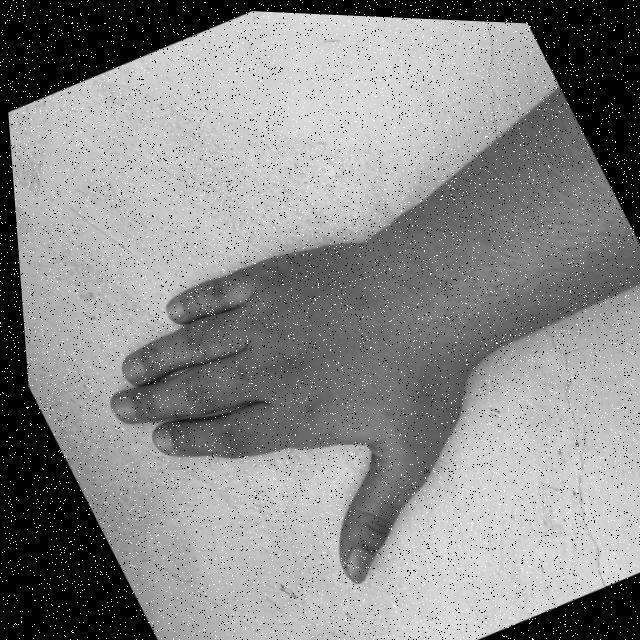no-gloves: (55, 191, 534, 640)
